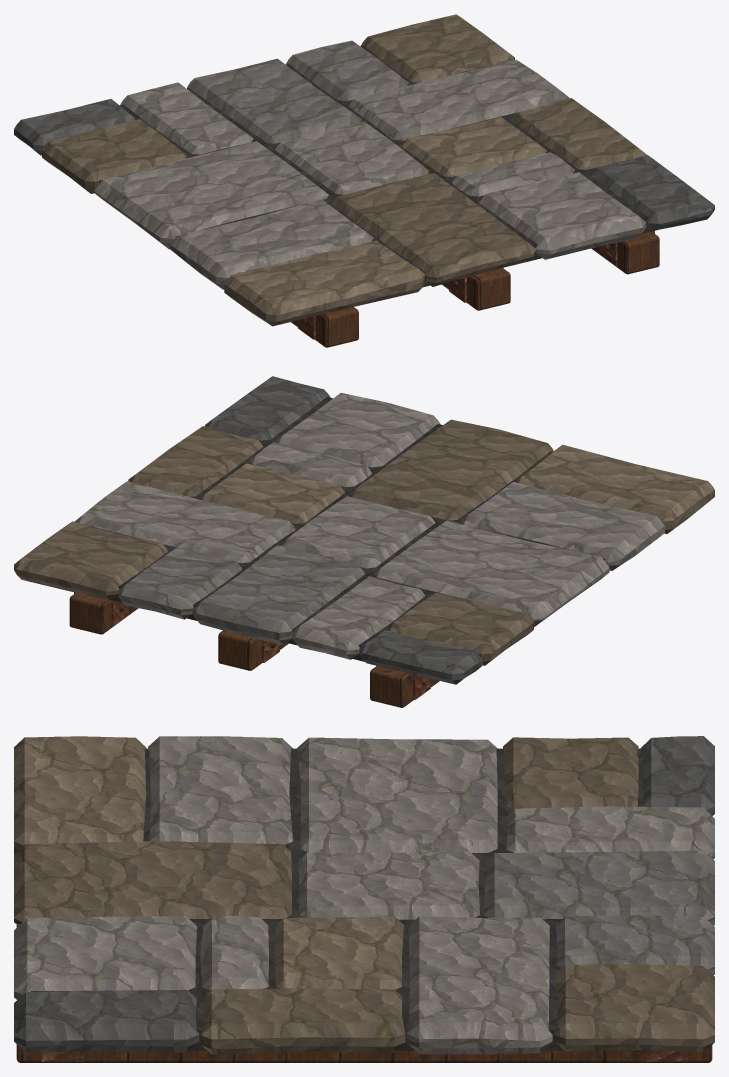
Rendered from floor__cut_stone.glb.
3 views of the same model, one above another, from view 1: azimuth 30°, elevation 25°; view 2: azimuth 150°, elevation 25°; view 3: azimuth 270°, elevation 25° (orthographic). The views are drawn at different scales.
Parts seen in each view (by area): view 1: model; view 2: model; view 3: model.
Boxes of the visible parts, box(x1,y1,x2,y2) form: model: box(14, 14, 714, 347); model: box(14, 376, 714, 707); model: box(14, 736, 714, 1062).
Bounding box in the file's own units: 1.98 × 0.2344 × 1.98.
9 materials, 9 textured.
